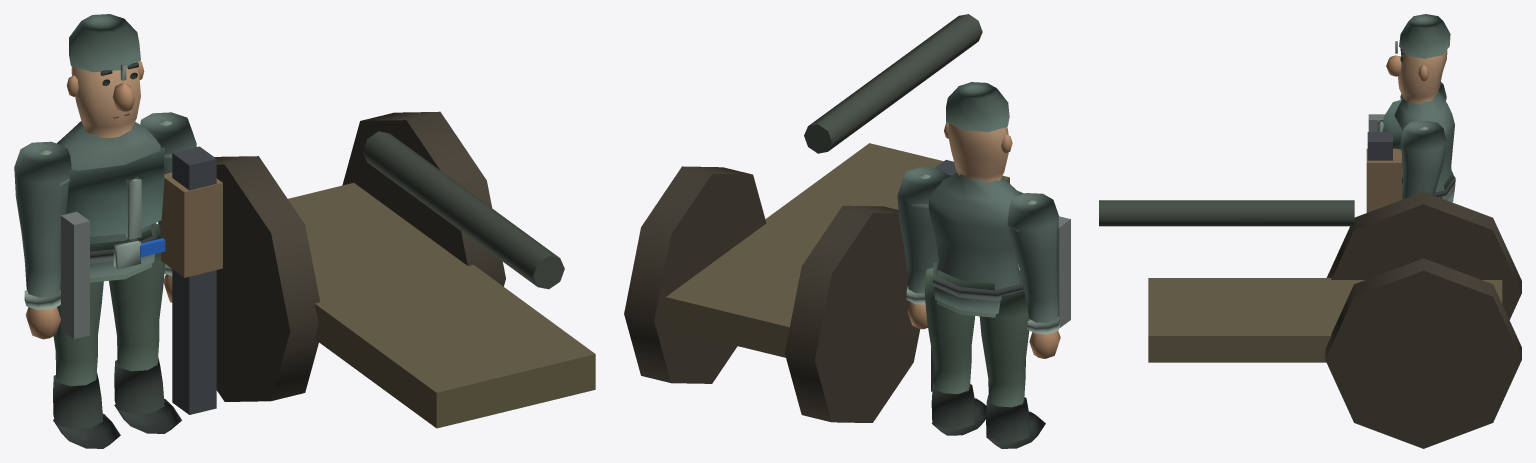
File: machinegun_team_team0.glb
3 renders of one model, left to right at view 1: azimuth 30°, elevation 25°; view 2: azimuth 150°, elevation 25°; view 3: azimuth 270°, elevation 25°, orthographic. The views are drawn at different scales.
Visible parts, largest first — view 1: part_10, part_11, part_0, part_12, part_13, part_2, part_8, part_5, part_1, part_7, part_6, part_3 (+1 smaller); view 2: part_11, part_10, part_12, part_0, part_13, part_7, part_2, part_8, part_1, part_4, part_3; view 3: part_12, part_10, part_11, part_13, part_1, part_4, part_0, part_6, part_5.
Part boxes in pixels (bbox=[...]): part_10: bbox=[288, 183, 595, 428]; part_11: bbox=[214, 156, 320, 401]; part_0: bbox=[57, 121, 164, 282]; part_12: bbox=[342, 111, 505, 286]; part_13: bbox=[362, 131, 564, 289]; part_2: bbox=[14, 141, 71, 339]; part_8: bbox=[109, 224, 181, 433]; part_5: bbox=[172, 146, 216, 414]; part_1: bbox=[66, 14, 144, 137]; part_7: bbox=[53, 281, 120, 448]; part_6: bbox=[161, 172, 222, 277]; part_3: bbox=[61, 211, 89, 338]; part_11: bbox=[784, 205, 920, 422]; part_10: bbox=[665, 143, 1009, 357]; part_12: bbox=[624, 166, 766, 383]; part_0: bbox=[928, 172, 1023, 317]; part_13: bbox=[804, 14, 982, 153]; part_7: bbox=[979, 287, 1045, 448]; part_2: bbox=[1007, 193, 1060, 358]; part_8: bbox=[925, 267, 986, 435]; part_1: bbox=[944, 82, 1012, 182]; part_4: bbox=[897, 167, 947, 329]; part_3: bbox=[1057, 216, 1070, 328]; part_12: bbox=[1325, 258, 1521, 448]; part_10: bbox=[1148, 278, 1502, 362]; part_11: bbox=[1326, 191, 1521, 319]; part_13: bbox=[1099, 200, 1354, 226]; part_1: bbox=[1386, 14, 1450, 104]; part_4: bbox=[1400, 120, 1446, 199]; part_0: bbox=[1377, 91, 1455, 202]; part_6: bbox=[1366, 148, 1401, 212]; part_5: bbox=[1367, 132, 1392, 160].
Bounding box in the file's own units: 1.86 × 1.71 × 2.15.
